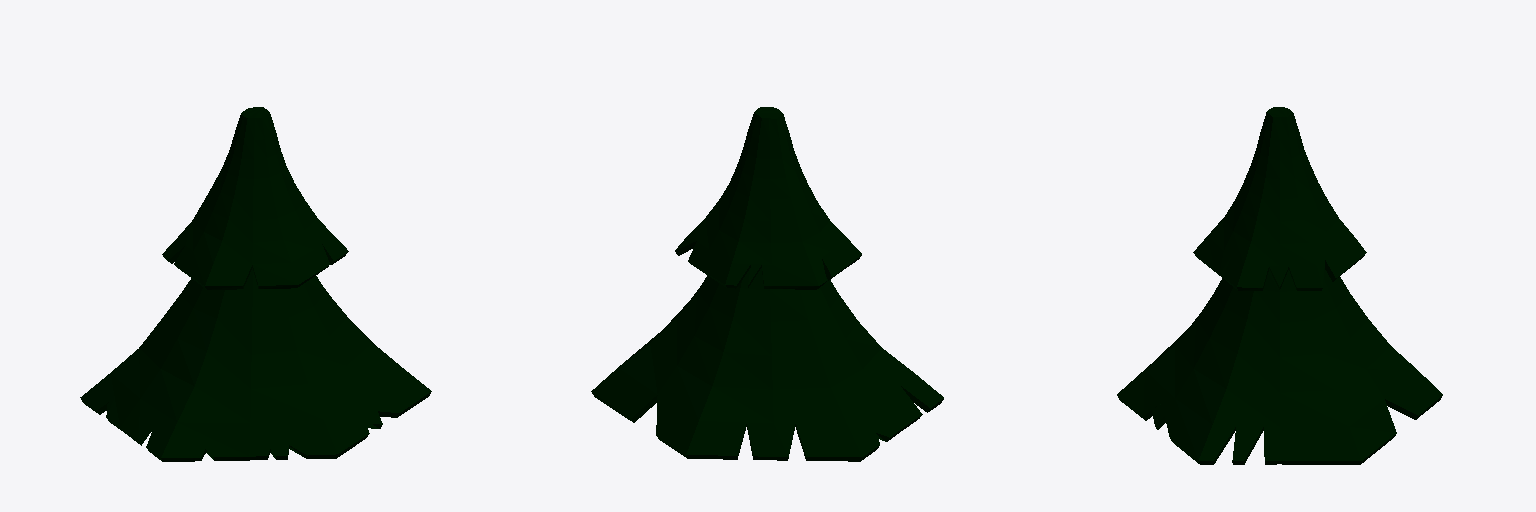
File: cone_tier_2.obj
3 views of the same model, side by side, from view 1: azimuth 30°, elevation 25°; view 2: azimuth 150°, elevation 25°; view 3: azimuth 270°, elevation 25° (orthographic).
Visible parts, largest first — view 1: cone_tier_2; view 2: cone_tier_2; view 3: cone_tier_2.
Part boxes in pixels (bbox=[...]): cone_tier_2: bbox=[80, 107, 431, 461]; cone_tier_2: bbox=[591, 107, 943, 461]; cone_tier_2: bbox=[1117, 107, 1442, 464].
Size of the model in its own units: 0.6068 by 0.6141 by 0.6304.